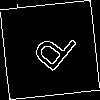P: (25, 25, 79, 81)
